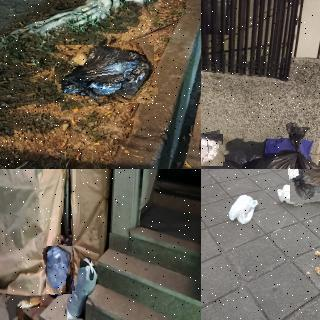Garbage: (53, 41, 156, 107), (245, 123, 320, 169), (66, 258, 98, 320), (44, 245, 74, 295), (288, 169, 320, 204), (201, 153, 260, 169), (201, 132, 223, 167)
